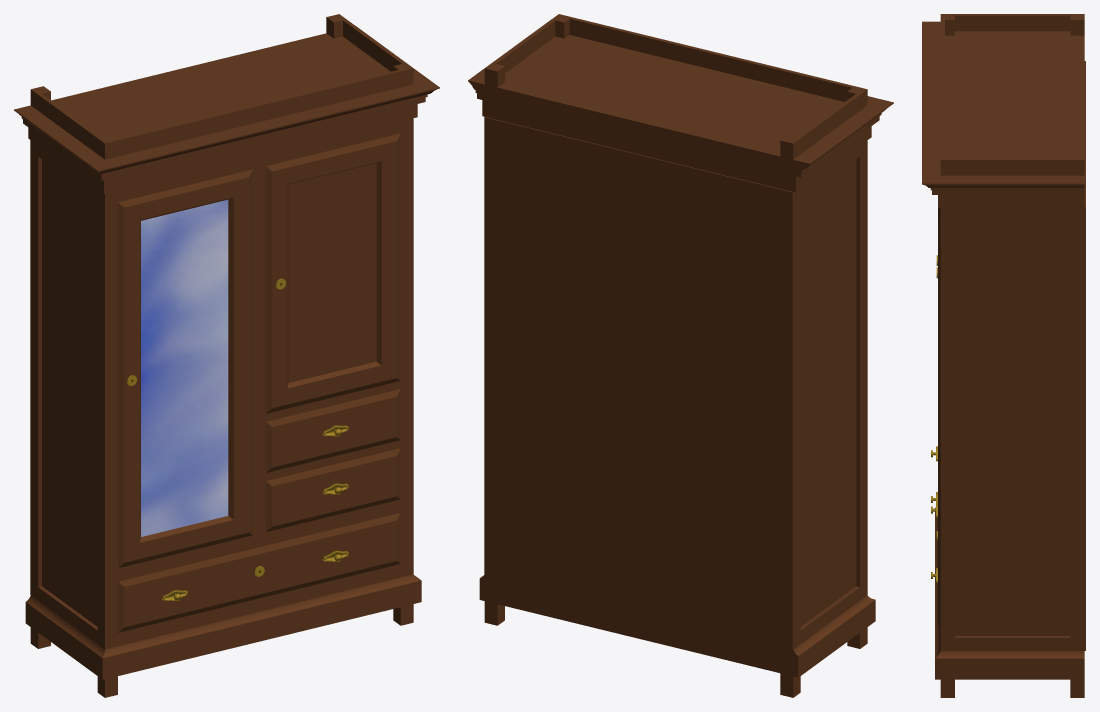
Rendered from armario.fbx.
The picture shows the model from 3 angles, left to right: view 1: azimuth 30°, elevation 25°; view 2: azimuth 150°, elevation 25°; view 3: azimuth 270°, elevation 25°; orthographic projection. The views are drawn at different scales.
Parts seen in each view (by area): view 1: Model; view 2: Model; view 3: Model.
Boxes of the visible parts, x1,y1,x2,y2 form: Model: (14,14,439,697); Model: (468,14,893,697); Model: (922,14,1085,697).
Size of the model in its own units: 1.33 by 2.06 by 0.569.
